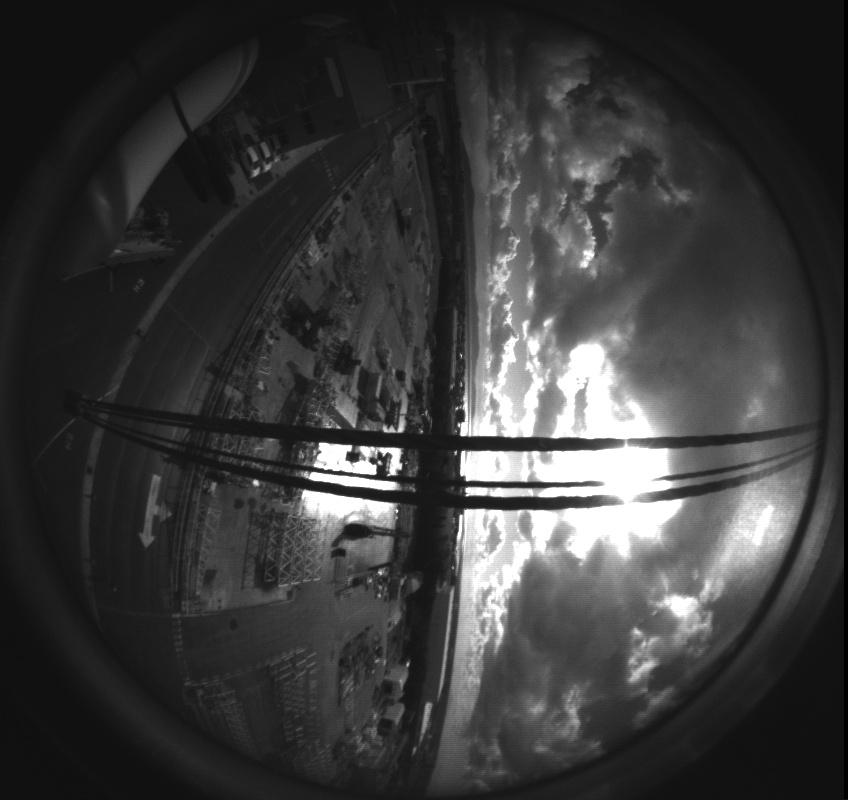rope: (6, 371, 844, 521)
